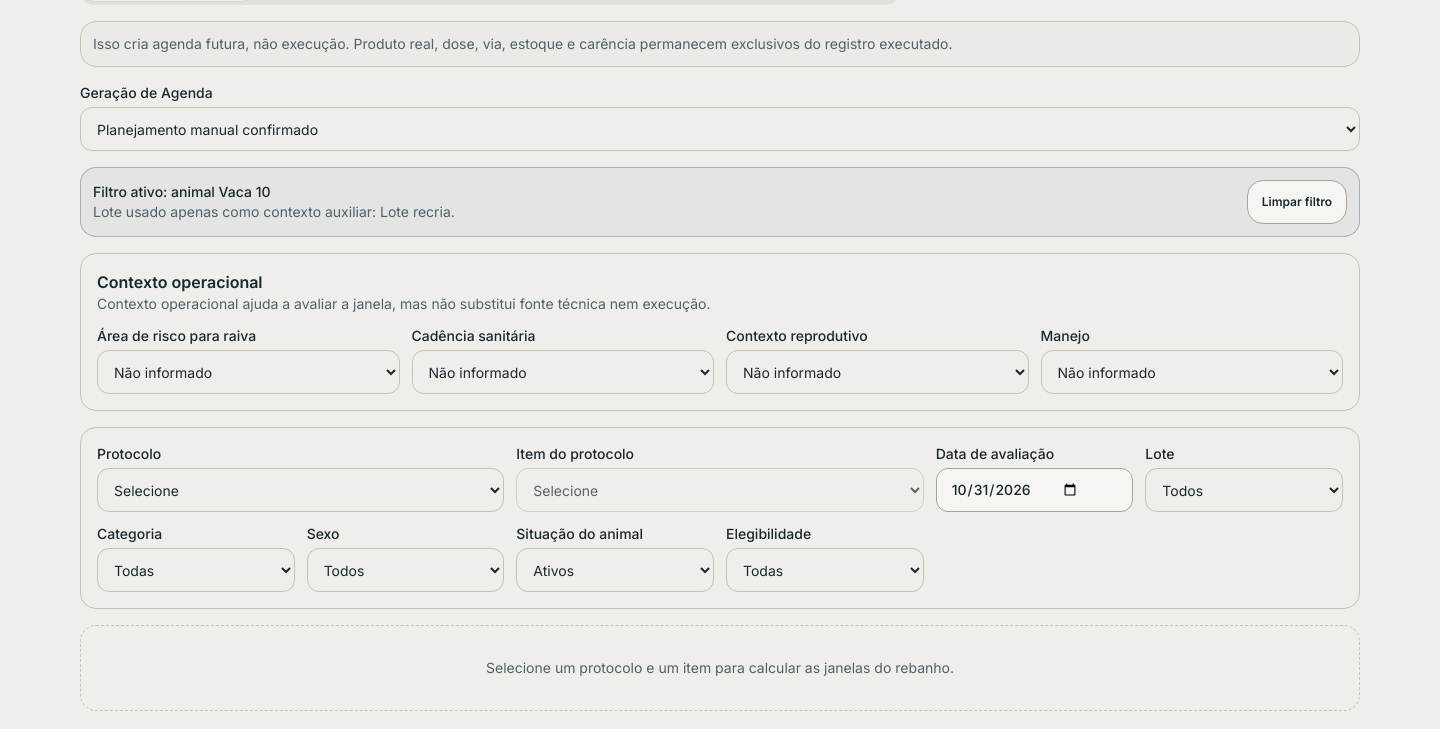
Test: Central Sanitária › abre Janelas sanitárias com filtro inicial por animal e permite limpar
(page scrolled)
Expected: the text "Filtro ativo: animal Vaca 10" is shown, [93,183,270,200]
Expected: the text "Lote usado apenas como contexto auxiliar: Lote recria." is shown, [93,202,455,222]
Select "Brucelose B19" in the dropdown named "Selecionar protocolo" at (301, 490), box [97,468,504,512]
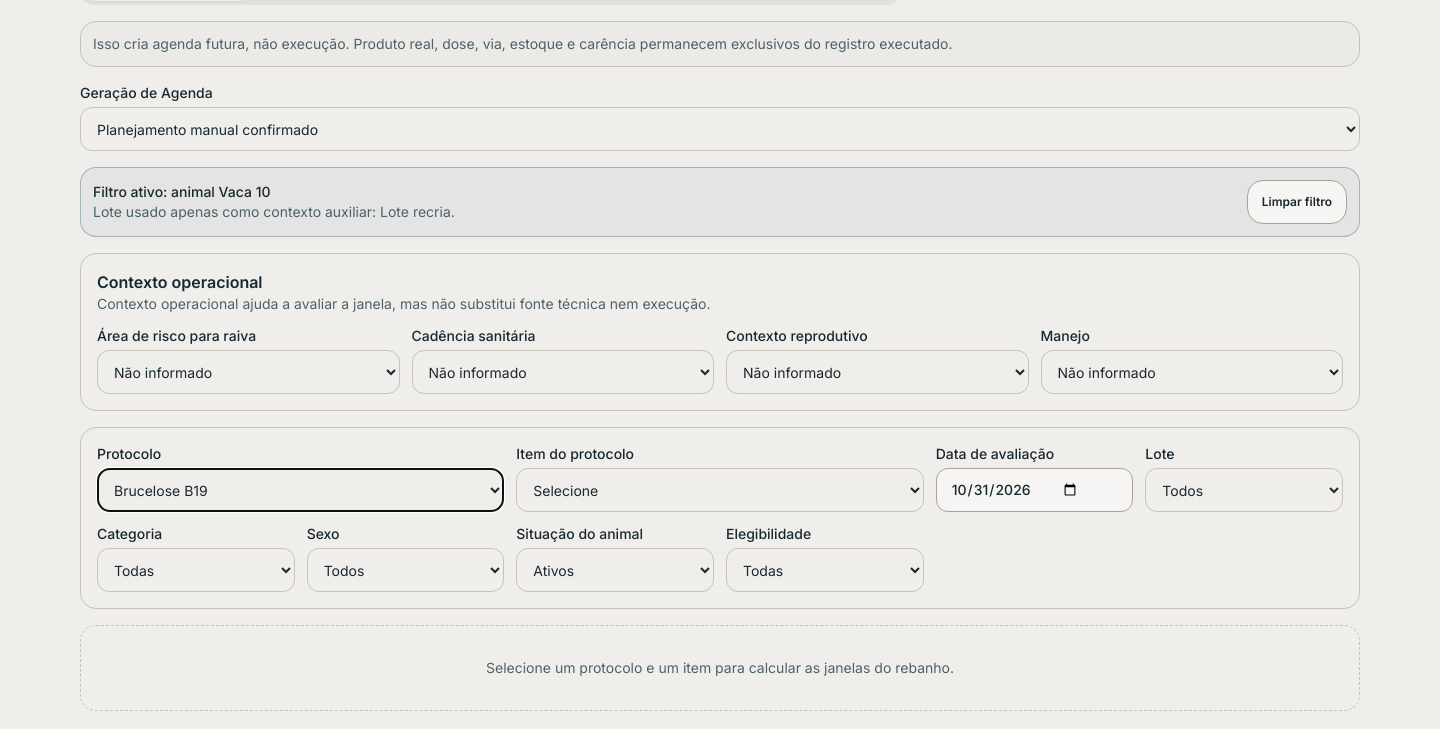
Select "B19 — fêmeas de 3 a 8 meses" in the dropdown named "Selecionar item do protocolo" at (720, 490), box [516,468,924,512]
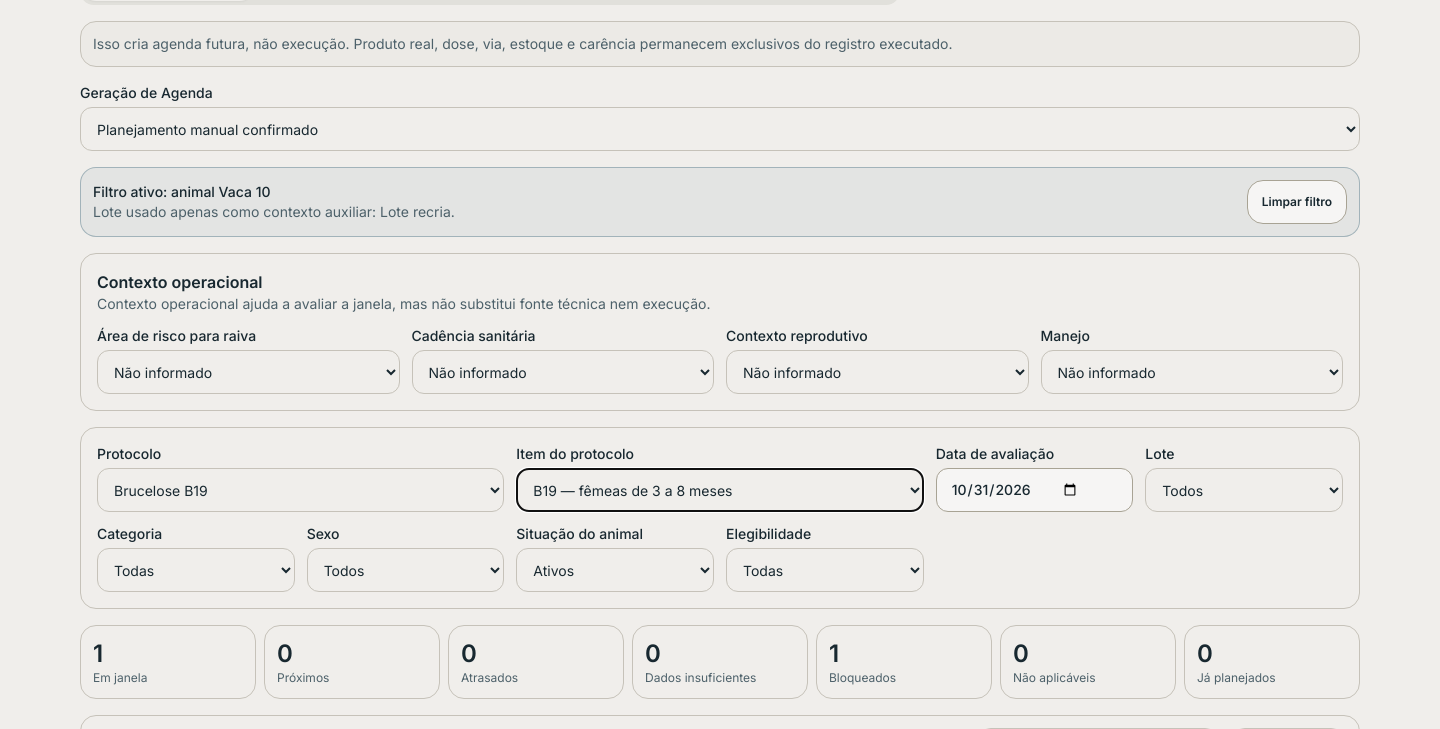
Expected: the text "Vaca 20" is not shown
Click the button "Limpar filtro" at (1297, 202), box [1247,180,1347,224]
(page scrolled)
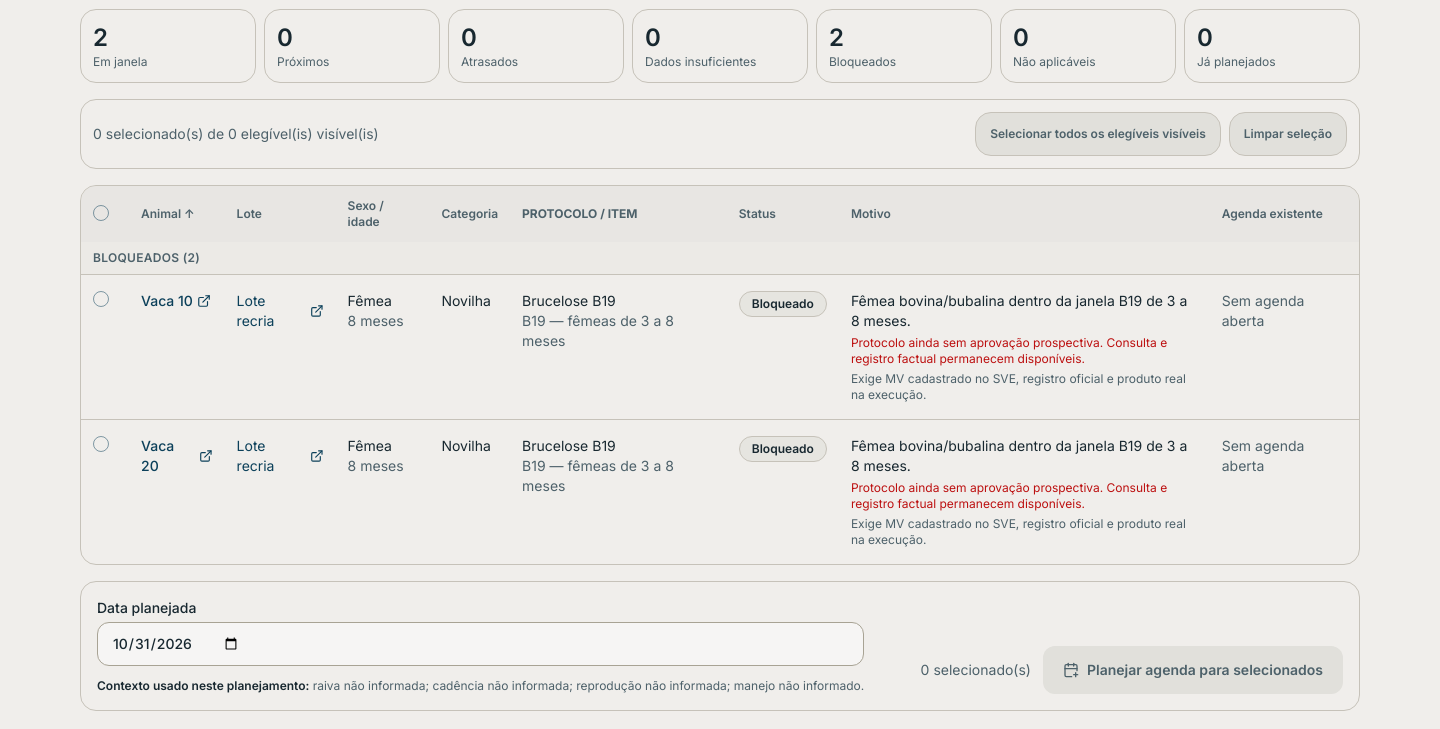
Expected: the link "Vaca 10" is shown, [141,291,211,311]
Expected: the text "Filtro ativo:" is gone
Expected: the link "Vaca 20" is shown, [141,436,213,476]
